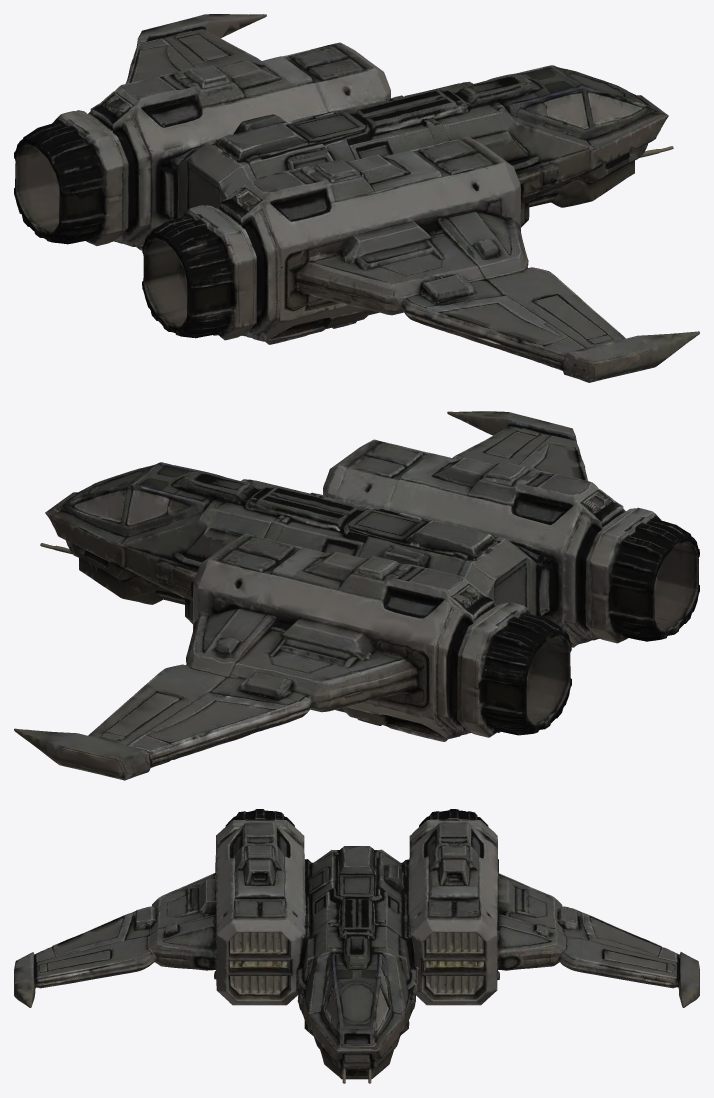
The model's file is character_ship.glb.
The picture shows the model from 3 angles, top to bottom: view 1: azimuth 30°, elevation 25°; view 2: azimuth 150°, elevation 25°; view 3: azimuth 270°, elevation 25°; orthographic projection. The views are drawn at different scales.
Visible parts, largest first — view 1: tripo_node_b04adb05-1221-4852-99f7-880985b71b78; view 2: tripo_node_b04adb05-1221-4852-99f7-880985b71b78; view 3: tripo_node_b04adb05-1221-4852-99f7-880985b71b78.
Part boxes in pixels (x1,y1,x2,y2): tripo_node_b04adb05-1221-4852-99f7-880985b71b78: [14, 14, 699, 382]; tripo_node_b04adb05-1221-4852-99f7-880985b71b78: [14, 411, 699, 780]; tripo_node_b04adb05-1221-4852-99f7-880985b71b78: [14, 809, 699, 1083].
Size of the model in its own units: 0.7156 by 0.187 by 1.
Materials: 1 (1 with a texture image).
